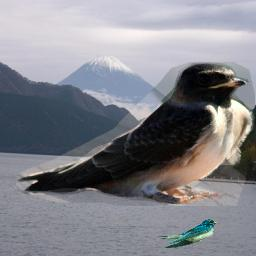Swallow: (13, 62, 255, 206), (152, 219, 217, 248)
